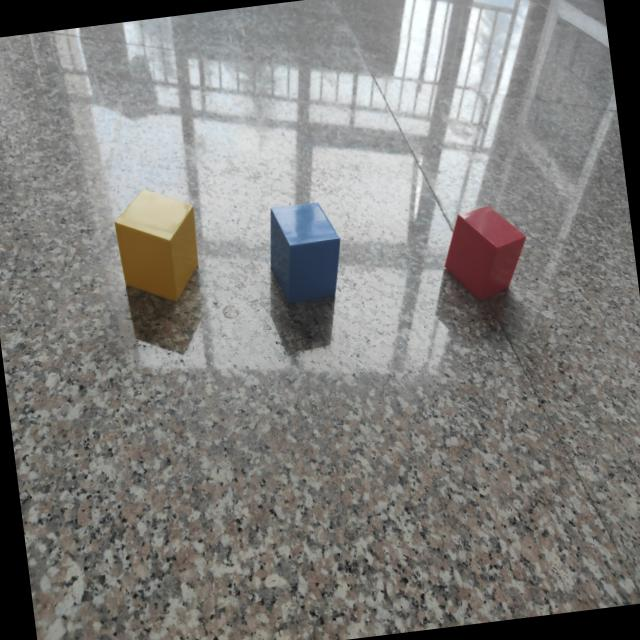blue: (269, 200, 341, 304)
pink: (445, 207, 527, 302)
yellow: (115, 193, 199, 303)
